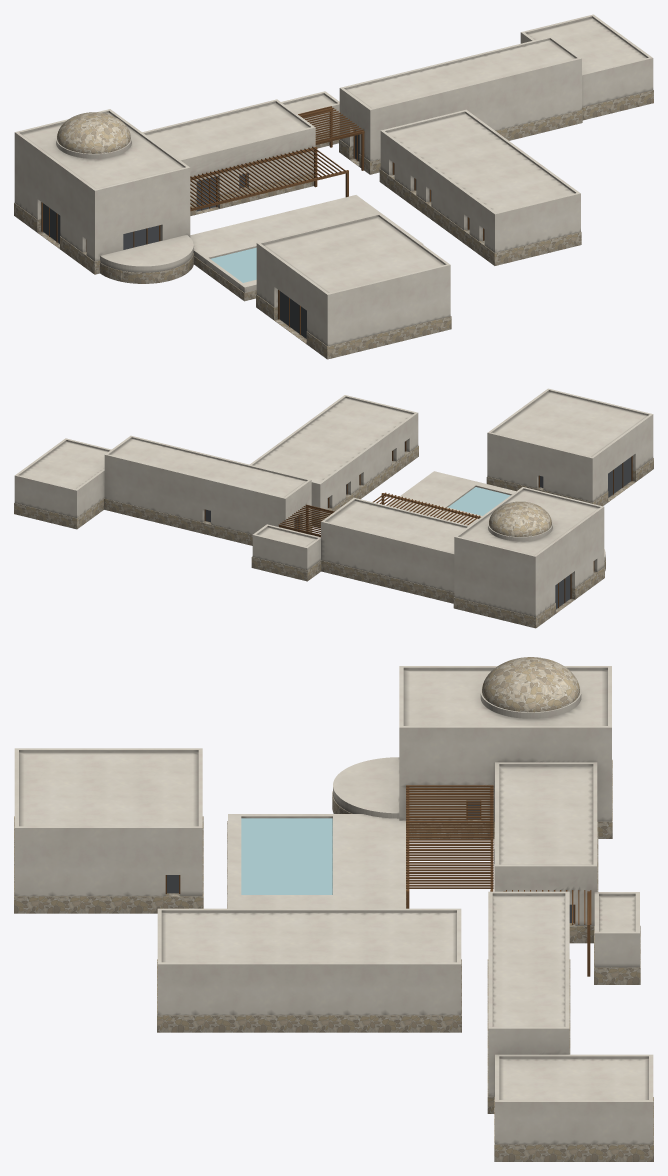
File: villa-S-hq.glb
3 views of the same model, one above another, from view 1: azimuth 30°, elevation 25°; view 2: azimuth 150°, elevation 25°; view 3: azimuth 270°, elevation 25° (orthographic). The views are drawn at different scales.
Parts seen in each view (by area): view 1: plaster, stone, wood, glass, water; view 2: plaster, stone, wood, glass, water; view 3: plaster, stone, wood, water.
Part boxes in pixels (left/top/right/bottom): plaster: left=14, top=14, right=653, bottom=346; stone: left=14, top=90, right=653, bottom=359; wood: left=41, top=106, right=484, bottom=334; glass: left=43, top=130, right=484, bottom=338; water: left=210, top=247, right=256, bottom=282; plaster: left=14, top=388, right=653, bottom=617; stone: left=14, top=445, right=653, bottom=628; wood: left=204, top=441, right=632, bottom=607; glass: left=205, top=442, right=631, bottom=608; water: left=448, top=487, right=510, bottom=515; plaster: left=14, top=666, right=653, bottom=1144; stone: left=14, top=657, right=653, bottom=1161; wood: left=165, top=785, right=591, bottom=976; water: left=241, top=818, right=332, bottom=894.
Bounding box in the file's own units: 48.46 × 8.46 × 34.01.
Materials: 5 (3 with a texture image).
